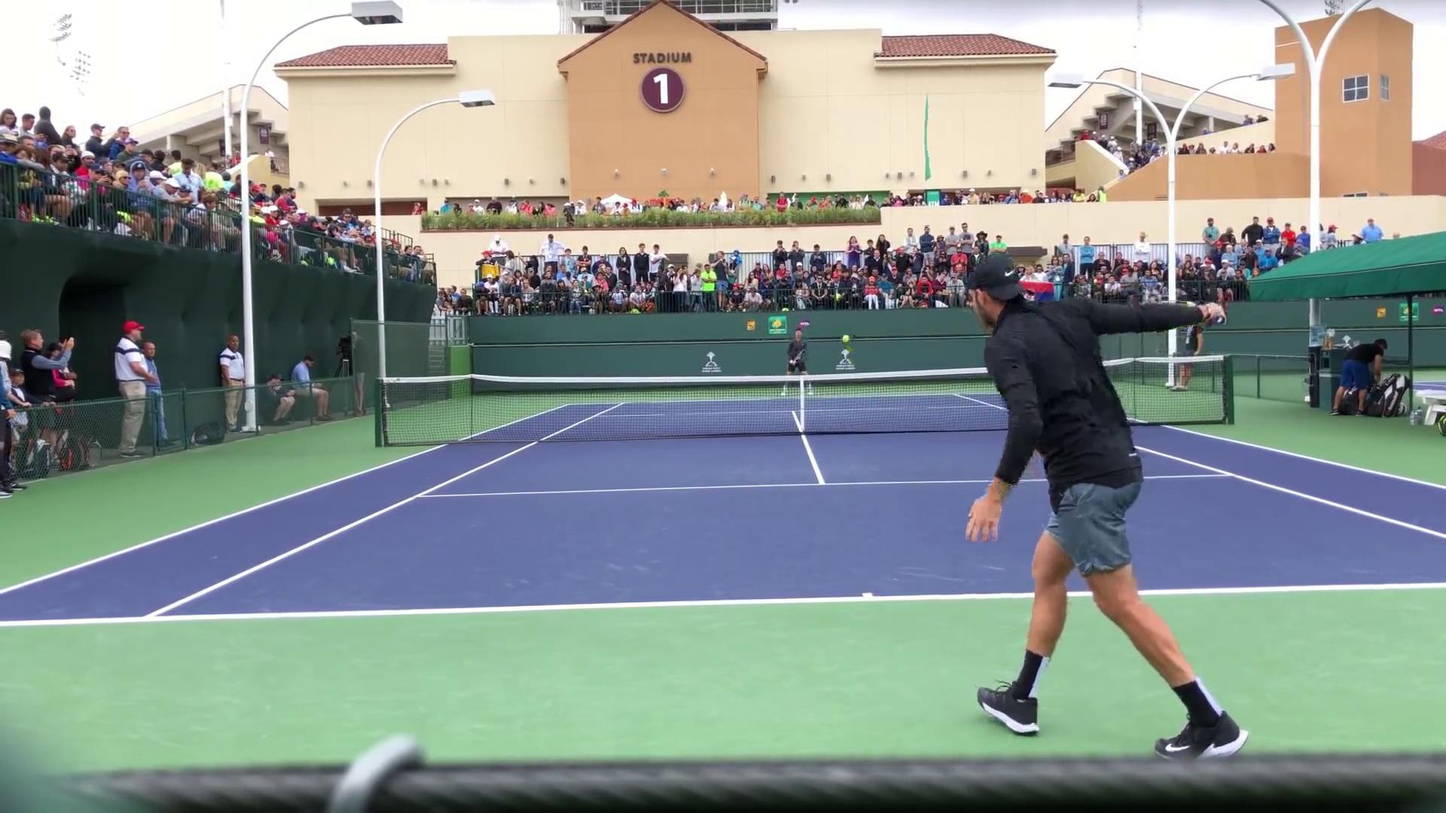ball: (840, 336, 851, 343)
